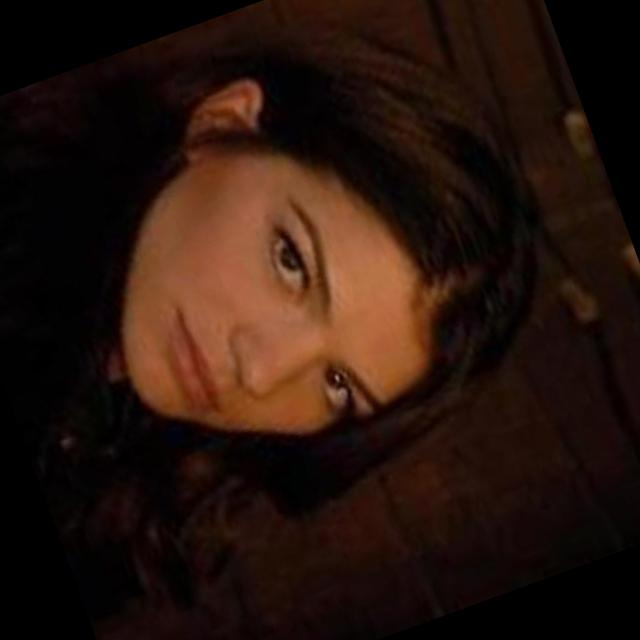bareface: (66, 144, 464, 500)
